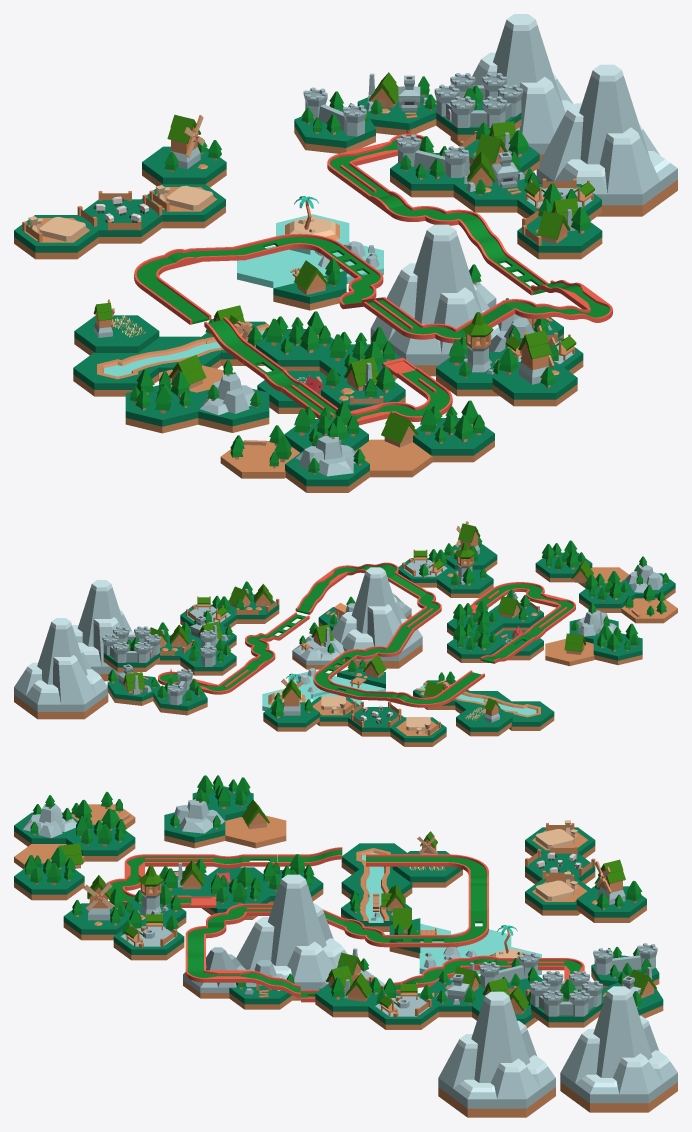
File: course.glb
The picture shows the model from 3 angles, top to bottom: view 1: azimuth 30°, elevation 25°; view 2: azimuth 150°, elevation 25°; view 3: azimuth 270°, elevation 25°; orthographic projection. The views are drawn at different scales.
Parts seen in each view (by area): view 1: mergedBlocks(Clone); view 2: mergedBlocks(Clone); view 3: mergedBlocks(Clone).
Part boxes in pixels (x1,y1,x2,y2): mergedBlocks(Clone): (14, 14, 677, 492); mergedBlocks(Clone): (14, 521, 677, 746); mergedBlocks(Clone): (14, 775, 677, 1117).
Size of the model in its own units: 330 by 54.32 by 326.
